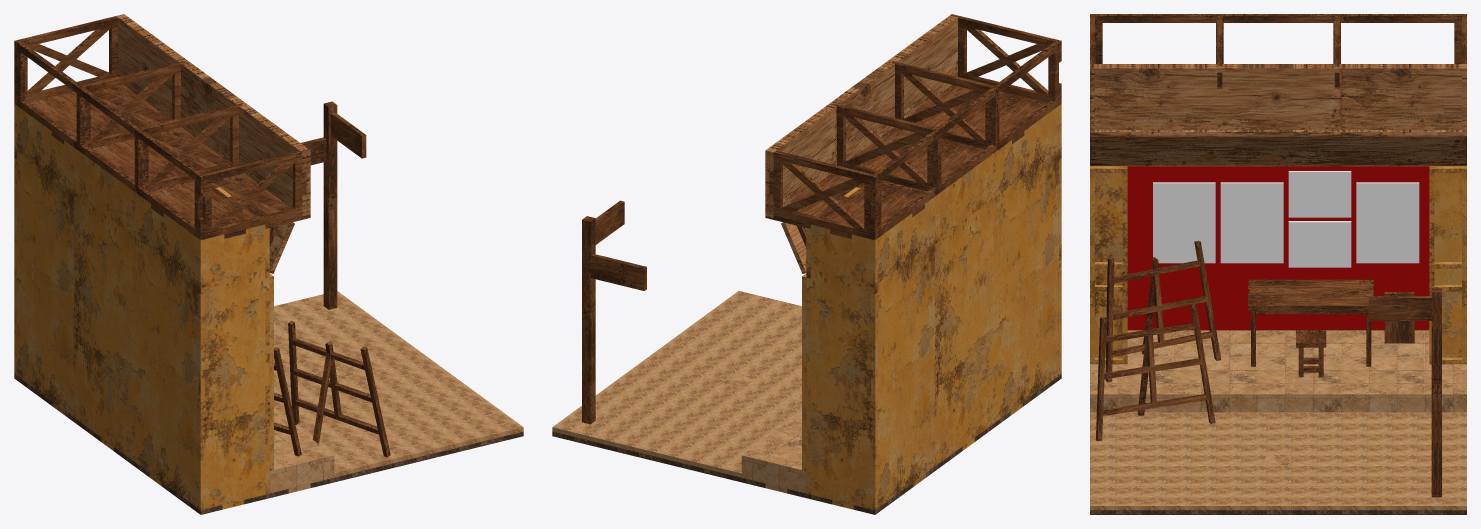
The model's file is Hang-Trong-Model.glb.
3 renders of one model, left to right at view 1: azimuth 30°, elevation 25°; view 2: azimuth 150°, elevation 25°; view 3: azimuth 270°, elevation 25°, orthographic.
Parts seen in each view (by area): view 1: Component#1, Component#4, Component#13, 34696, 34691; view 2: Component#1, Component#4, Component#13, 34696, 34691; view 3: Component#13, 34696, Component#1, Component#4, 34689, 34691.
Part boxes in pixels (x1,y1,x2,y2): Component#1: (14,104,273,510); Component#4: (14,16,390,457); Component#13: (51,291,523,493); 34696: (116,14,310,273); 34691: (14,374,523,514); Component#1: (802,104,1061,510); Component#4: (582,16,1061,424); Component#13: (552,291,1024,493); 34696: (765,14,959,273); 34691: (552,374,1061,514); Component#13: (1090,330,1466,510); 34696: (1090,64,1466,165); Component#1: (1090,165,1466,364); Component#4: (1090,14,1466,497); 34689: (1127,166,1429,330); 34691: (1090,510,1466,514).
Size of the model in its own units: 0.15 by 0.15 by 0.15.
Materials: 12 (10 with a texture image).
